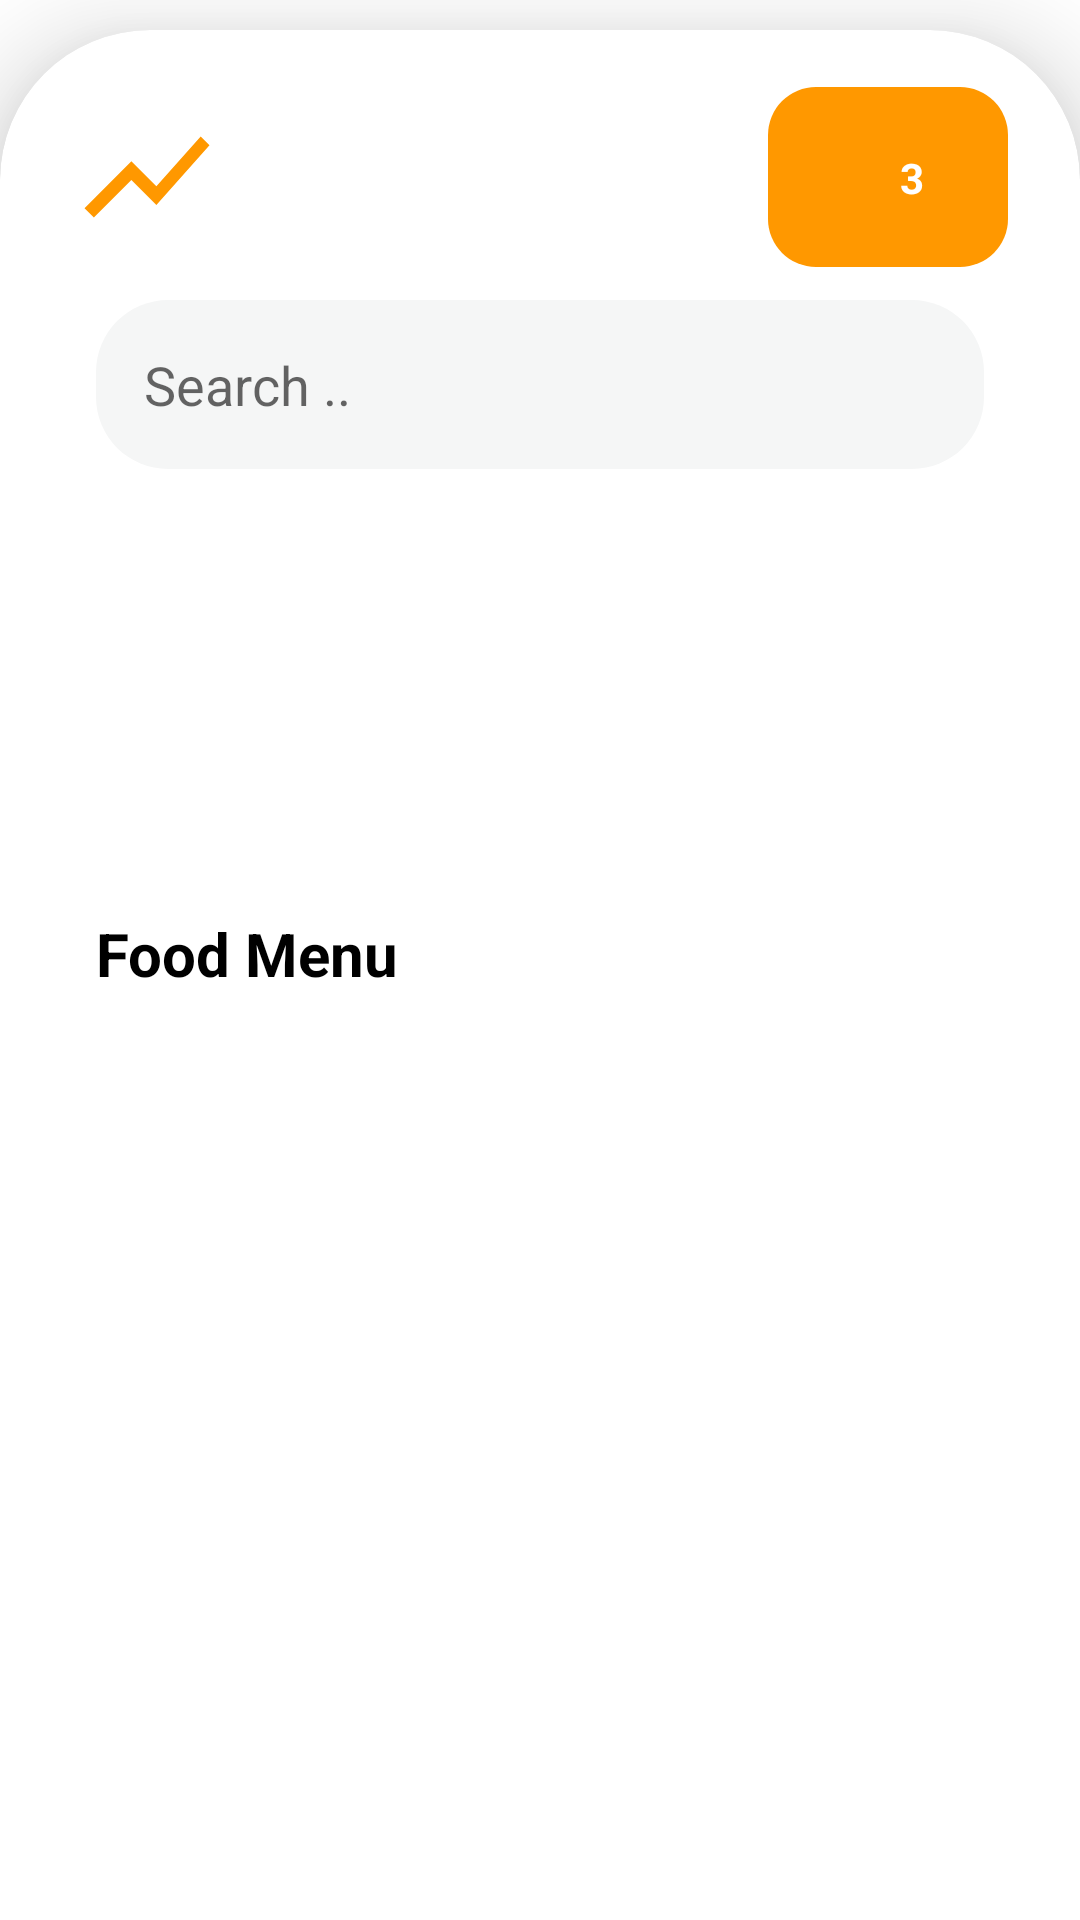

Where icons sit on this 1080 × 1920 app screen, as (x1, y1, x2, y2):
chart: (84, 136, 210, 218)
